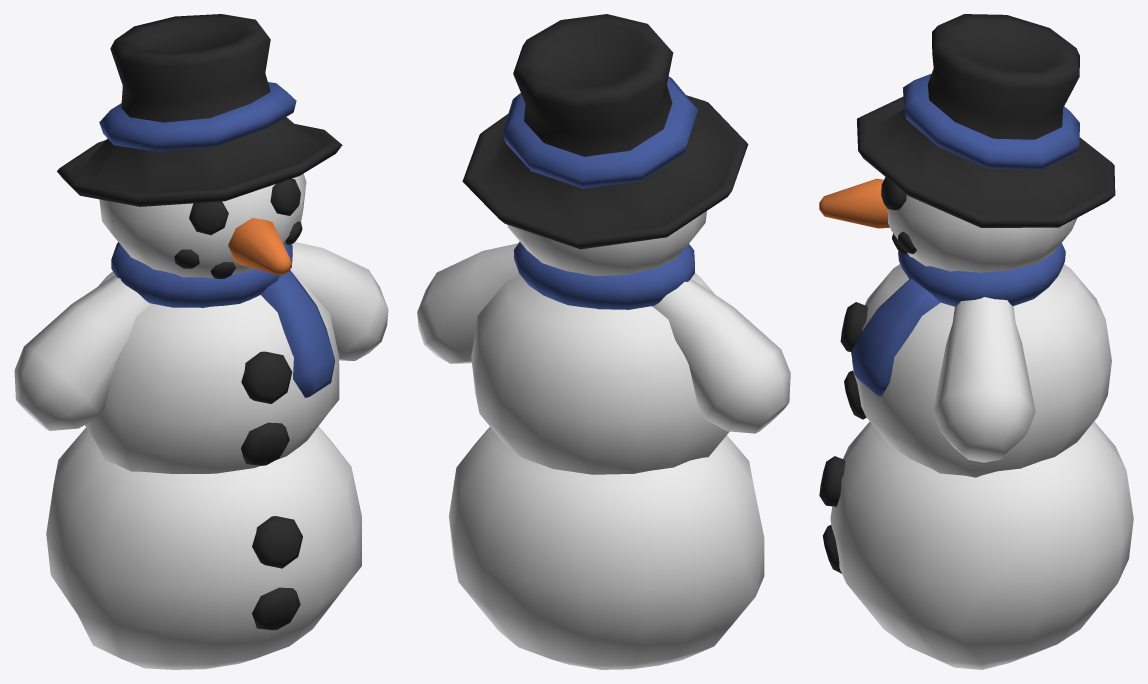
The model's file is Snowman_01_Large.fbx.
3 views of the same model, side by side, from view 1: azimuth 30°, elevation 25°; view 2: azimuth 150°, elevation 25°; view 3: azimuth 270°, elevation 25° (orthographic).
Parts seen in each view (by area): view 1: Snowman_01_Large; view 2: Snowman_01_Large; view 3: Snowman_01_Large.
Part boxes in pixels (x1,y1,x2,y2): Snowman_01_Large: (14,14,388,669); Snowman_01_Large: (417,14,790,669); Snowman_01_Large: (819,14,1133,669).
Bounding box in the file's own units: 0.6597 × 1.06 × 0.5041.
